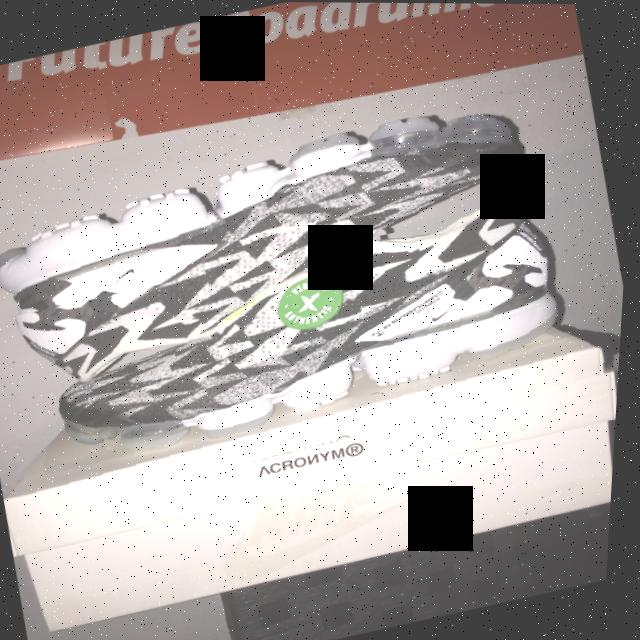shoe: (0, 181, 632, 521), (0, 74, 613, 352)
